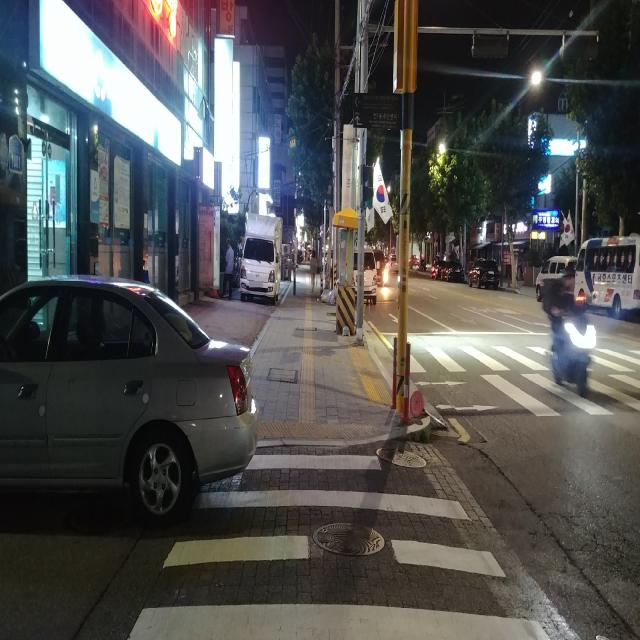횡단보도: (128, 455, 552, 640), (409, 346, 640, 410)
